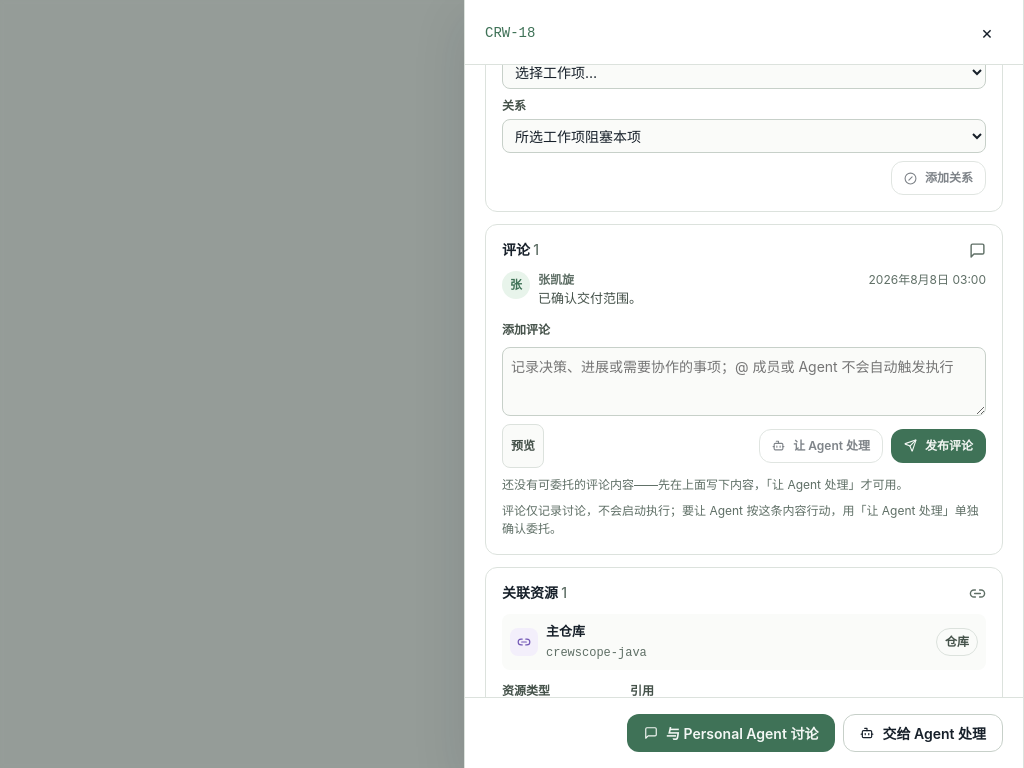
Test: WorkItemDetailDrawer › previews the comment draft through SafeMarkdown and returns to editing without losing text
This screenshot has width=1024, height=768.
(page scrolled)
In the text box with id "work-item-comment": (744, 382) [502,347,986,416], type "**结论**先行"
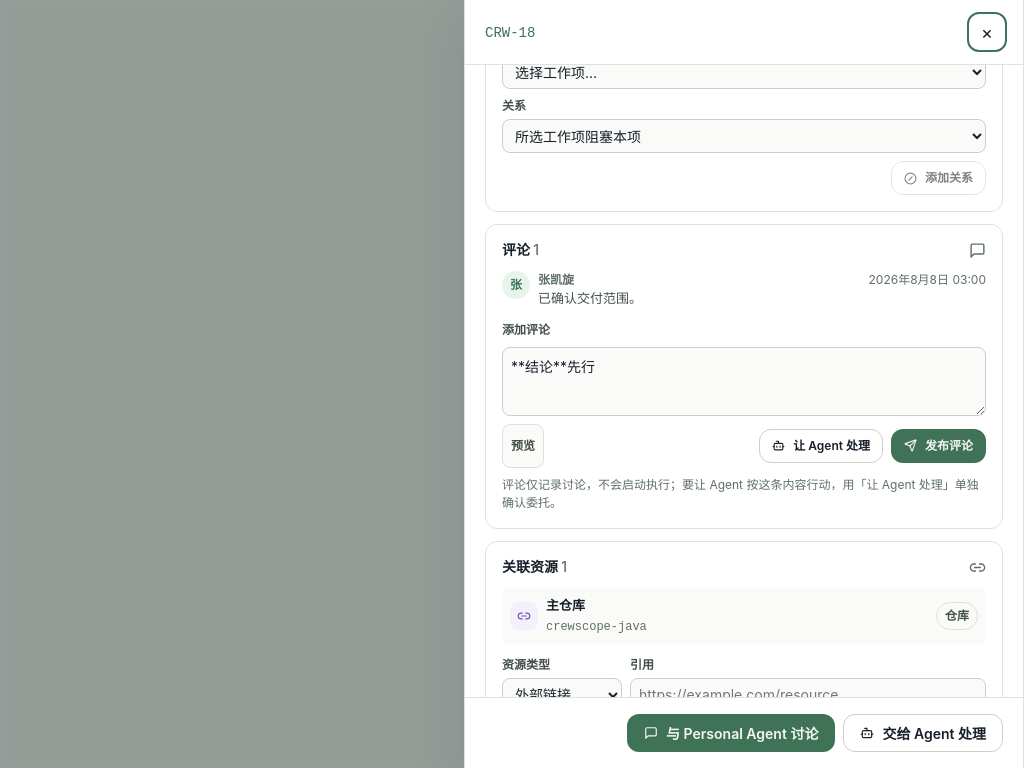
Click the button with class "comment-preview-toggle": (523, 446) [502,424,544,468]
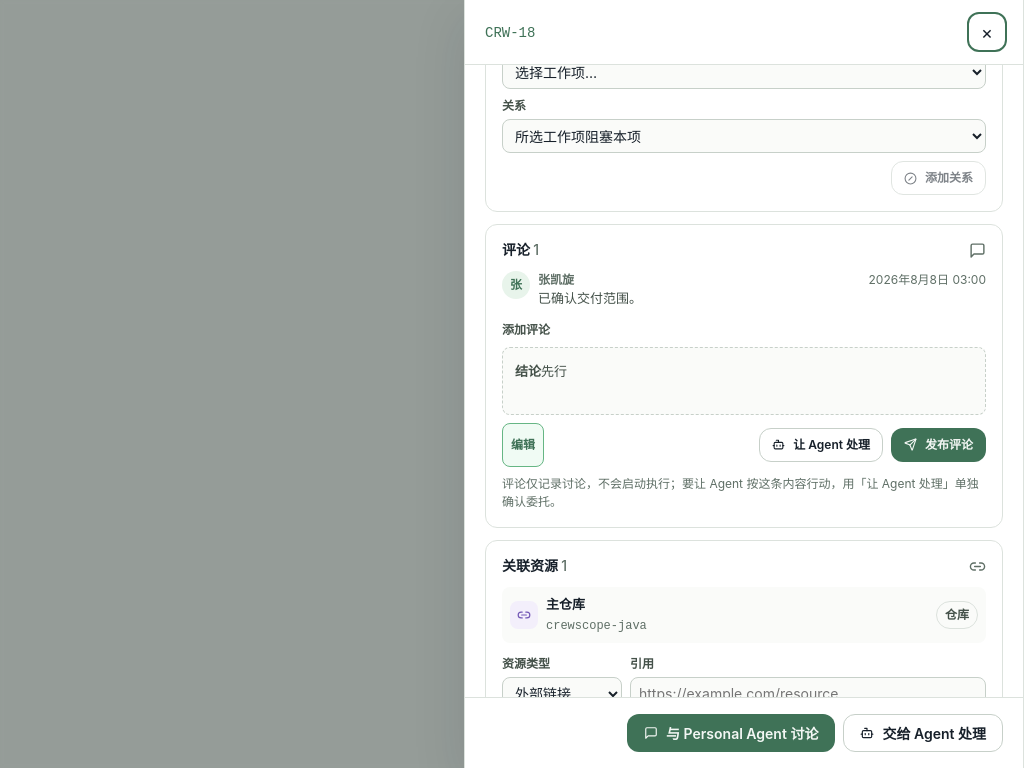
Now the text "结论" is shown, box [515,363,541,379]
Click the button with class "comment-preview-toggle": (523, 445) [502,423,544,467]
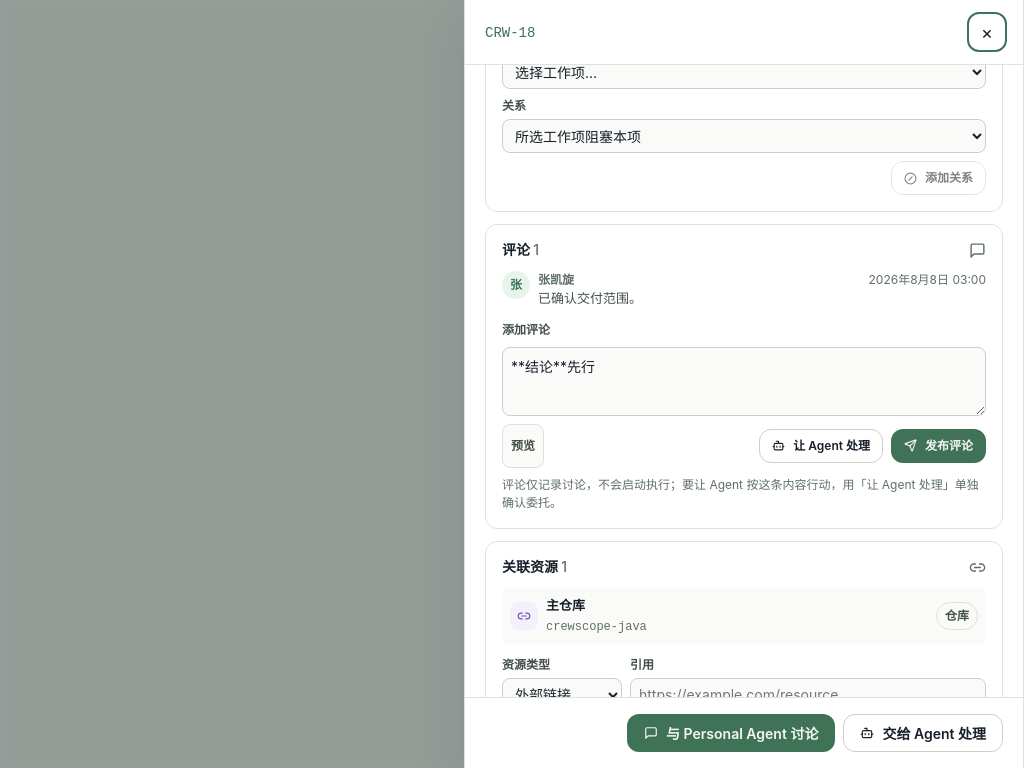
Now the text box with id "work-item-comment" holds "**结论**先行", box [502,347,986,416]
